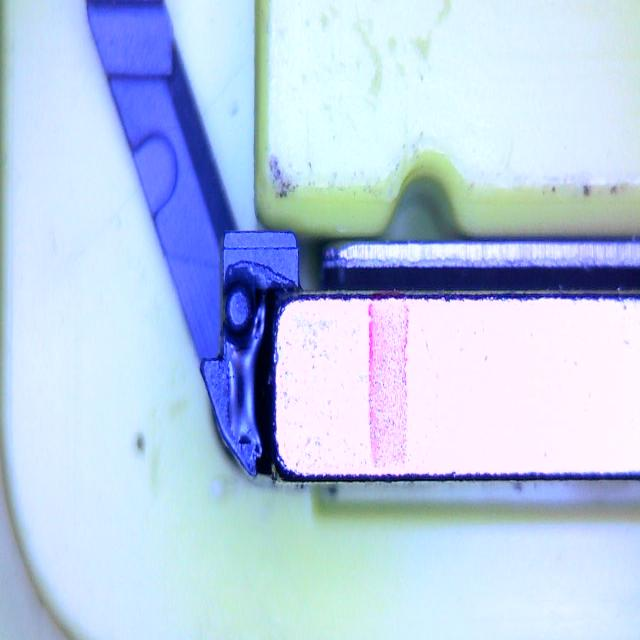over: (226, 332, 266, 458)
